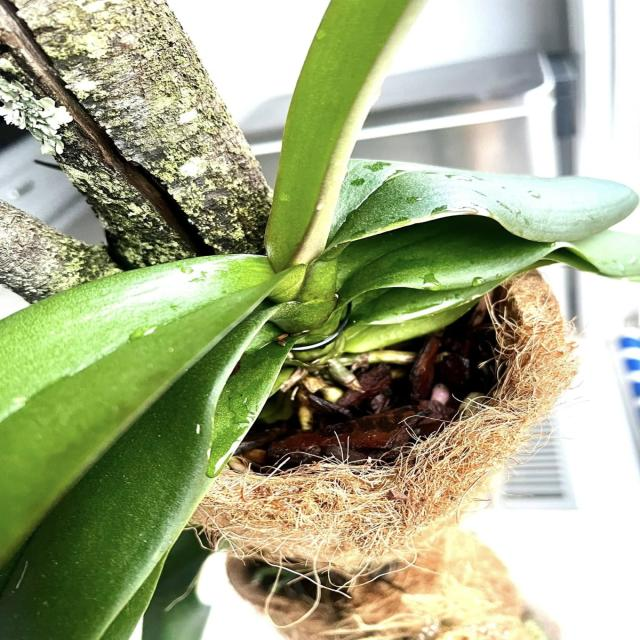leaf: (0, 255, 289, 566), (2, 331, 276, 639), (269, 1, 424, 264), (324, 215, 555, 314), (334, 172, 637, 247)
pot: (177, 287, 598, 600)
